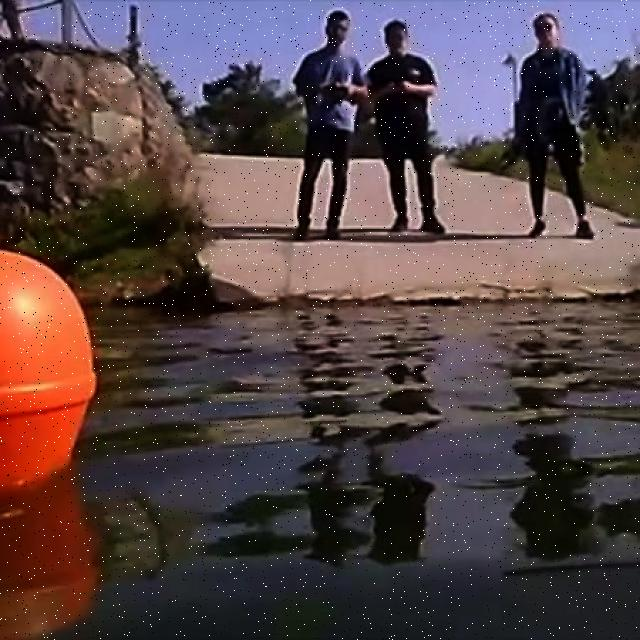buoy: (0, 248, 100, 493)
